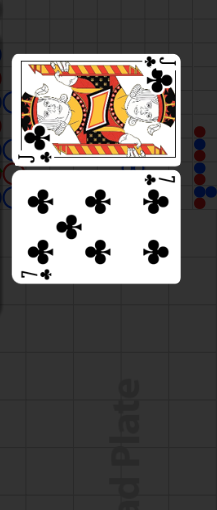7C: (19, 267, 54, 281)
JC: (142, 54, 177, 69)
